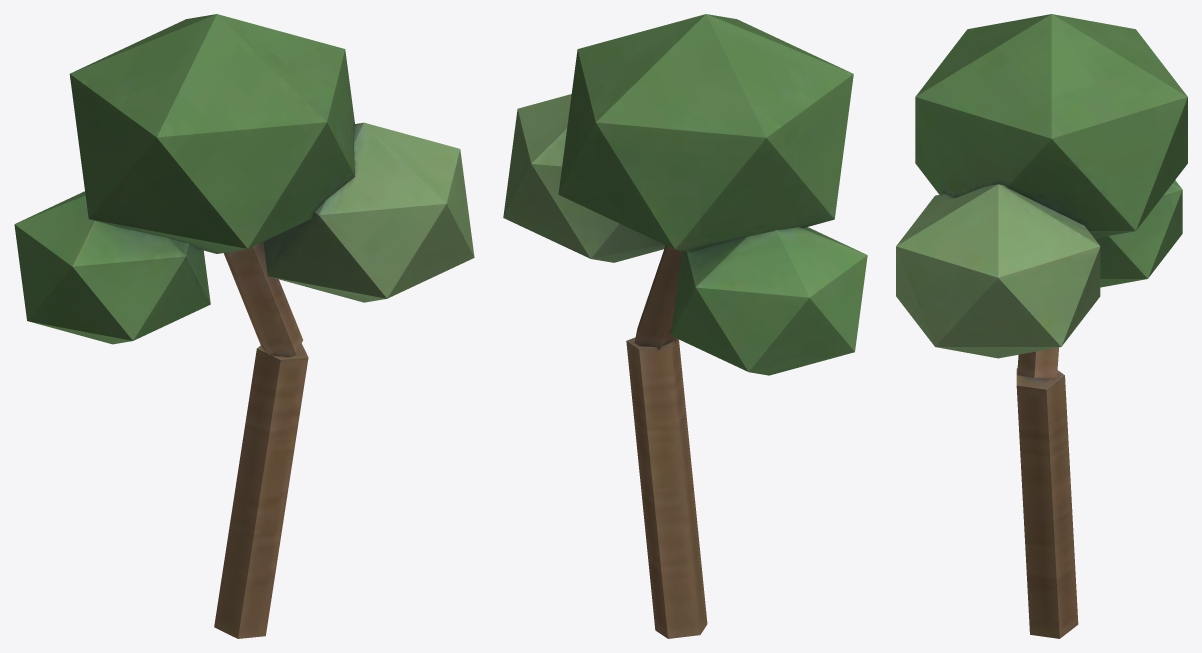
File: life-plant-wild-tree.glb
3 renders of one model, left to right at view 1: azimuth 30°, elevation 25°; view 2: azimuth 150°, elevation 25°; view 3: azimuth 270°, elevation 25°, orthographic. The views are drawn at different scales.
Parts seen in each view (by area): view 1: life-plant-wild-tree; view 2: life-plant-wild-tree; view 3: life-plant-wild-tree.
Part boxes in pixels (<box>): life-plant-wild-tree: <box>14,14,474,638</box>; life-plant-wild-tree: <box>503,14,867,638</box>; life-plant-wild-tree: <box>896,14,1187,638</box>.
Size of the model in its own units: 0.322 by 0.4983 by 0.2186.
1 material, 1 textured.
